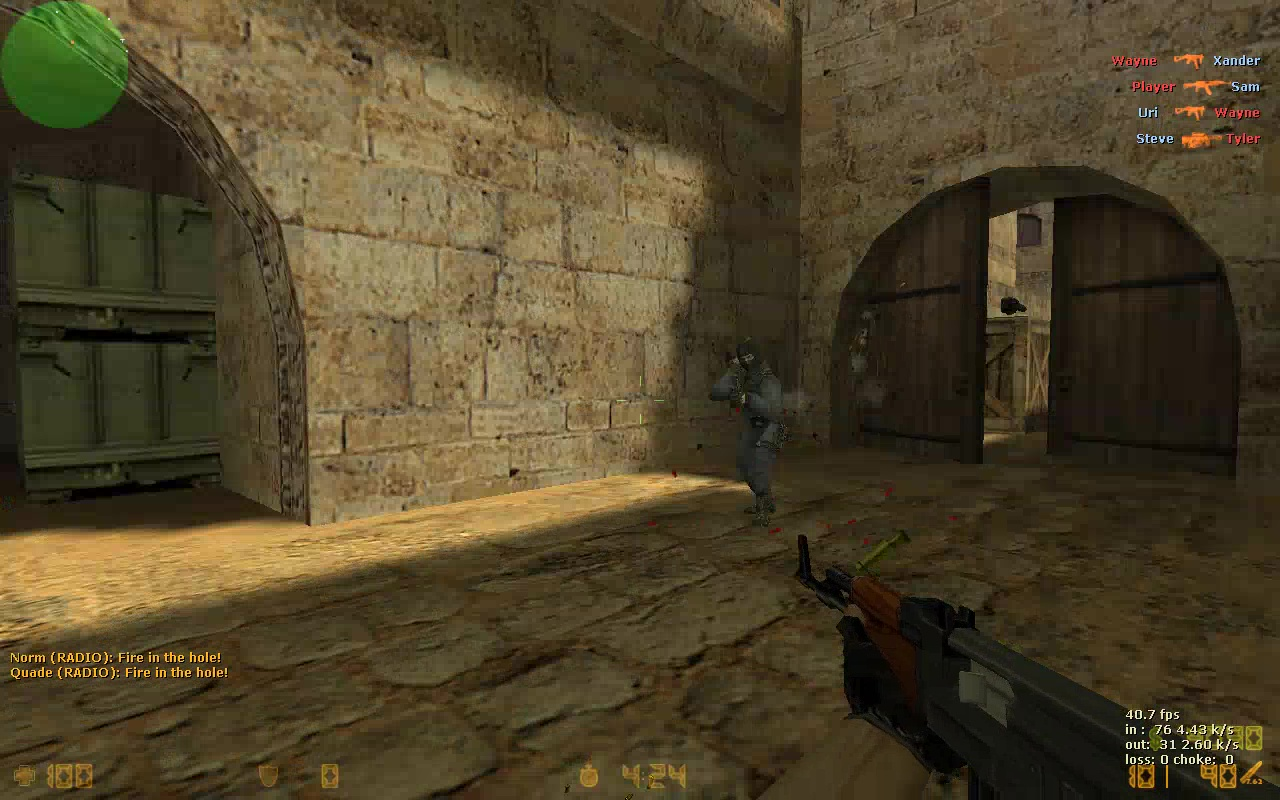ct: (706, 341, 785, 526)
